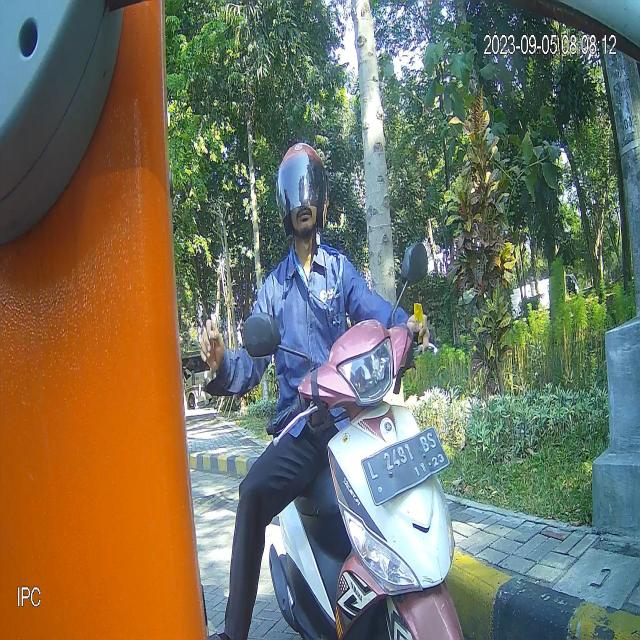license-plate: (360, 424, 452, 509)
